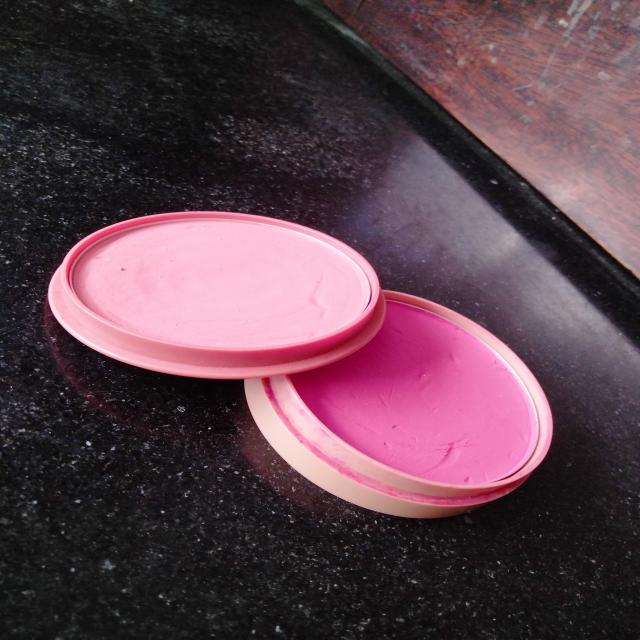blush: (243, 281, 562, 525)
